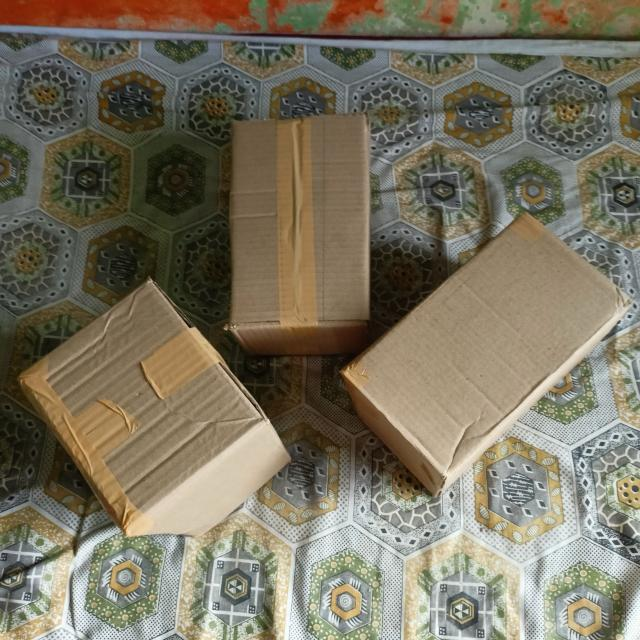box: (345, 208, 629, 478), (20, 283, 266, 531), (231, 112, 369, 331)
